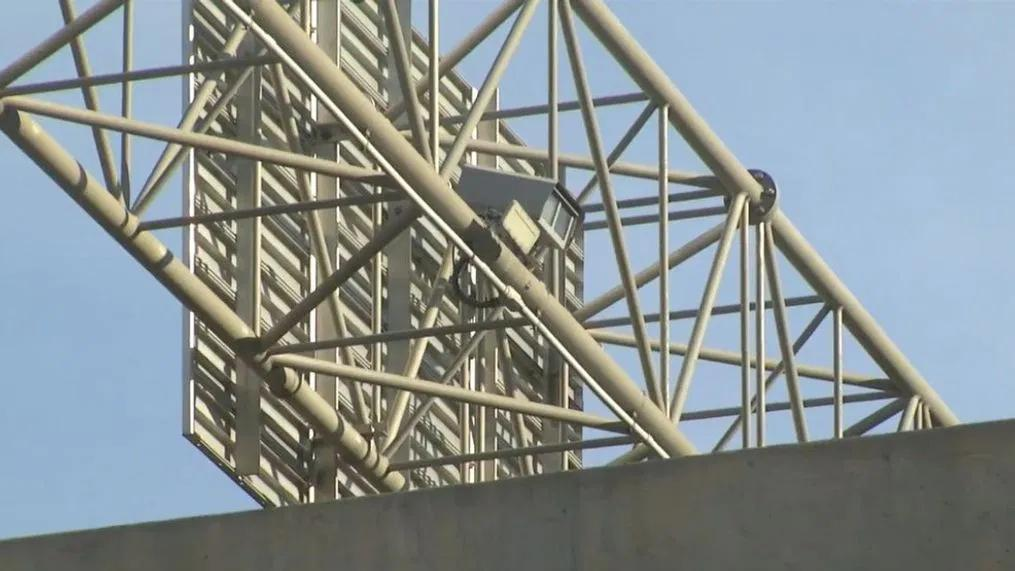Monitor: (453, 163, 583, 255)
